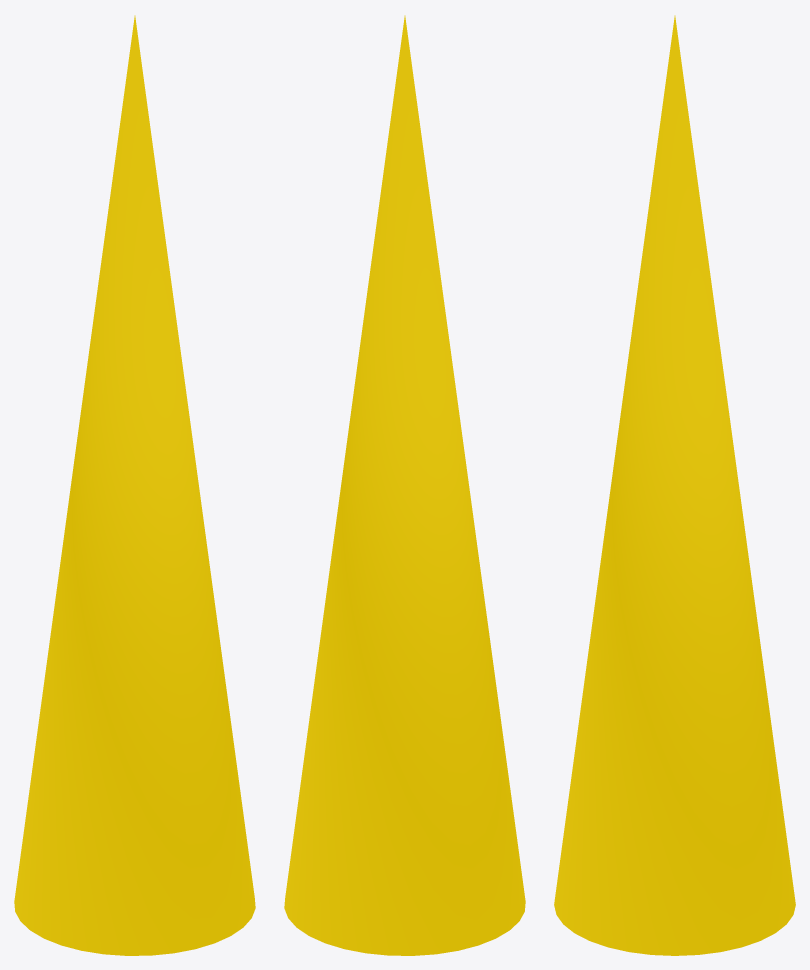
The picture shows the model from 3 angles, left to right: view 1: azimuth 30°, elevation 25°; view 2: azimuth 150°, elevation 25°; view 3: azimuth 270°, elevation 25°; orthographic projection.
Visible parts, largest first — view 1: Cone.001; view 2: Cone.001; view 3: Cone.001.
Boxes of the visible parts, bbox=[...] form: Cone.001: bbox=[14, 15, 255, 955]; Cone.001: bbox=[284, 15, 525, 955]; Cone.001: bbox=[554, 15, 795, 955].
Size of the model in its own units: 200 by 813 by 200.
